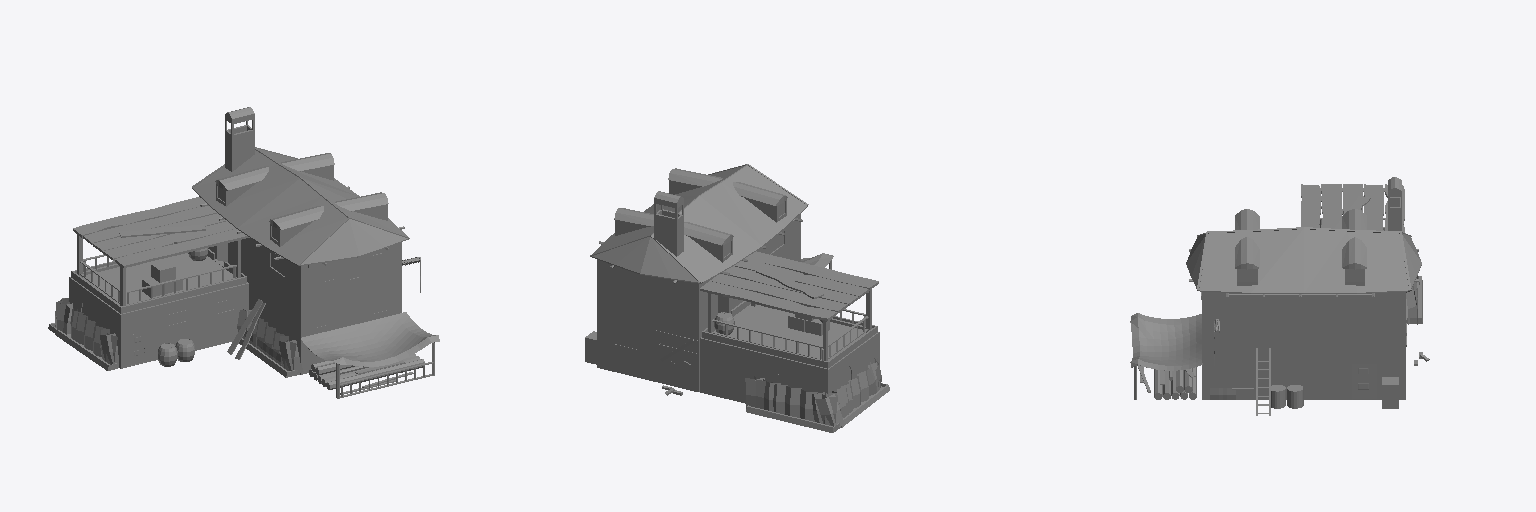
Rendered from oldhouse2.obj.
3 views of the same model, side by side, from view 1: azimuth 30°, elevation 25°; view 2: azimuth 150°, elevation 25°; view 3: azimuth 270°, elevation 25° (orthographic).
Parts seen in each view (by area): view 1: _Old_House_2__3D_Models__3Dislands_blogspot_com_, Plants_1_3Dislands_blogspot_com; view 2: _Old_House_2__3D_Models__3Dislands_blogspot_com_, Plants_1_3Dislands_blogspot_com; view 3: _Old_House_2__3D_Models__3Dislands_blogspot_com_.
Boxes of the visible parts, x1,y1,x2,y2 form: _Old_House_2__3D_Models__3Dislands_blogspot_com_: [48, 107, 439, 398]; Plants_1_3Dislands_blogspot_com: [55, 298, 303, 373]; _Old_House_2__3D_Models__3Dislands_blogspot_com_: [585, 164, 889, 432]; Plants_1_3Dislands_blogspot_com: [745, 358, 881, 426]; _Old_House_2__3D_Models__3Dislands_blogspot_com_: [1130, 177, 1429, 415].
Size of the model in its own units: 390 by 252 by 363.